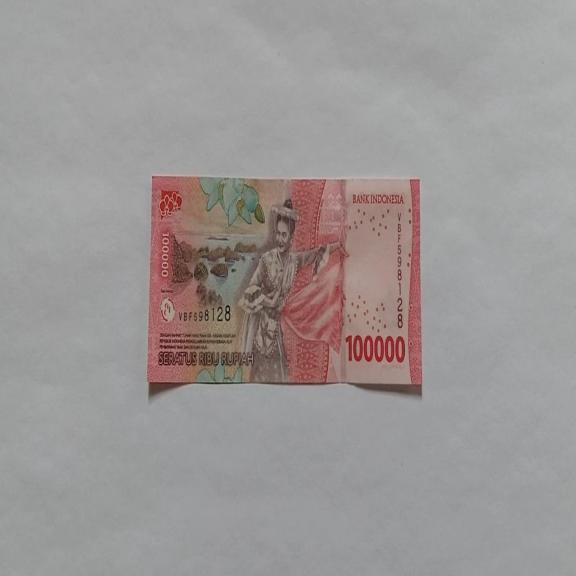Kertas: (147, 174, 422, 390), (344, 331, 406, 365)
